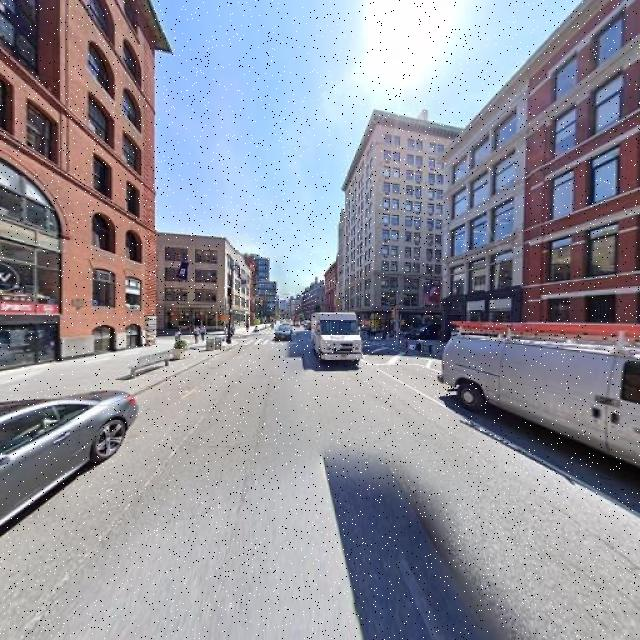Building: (445, 1, 640, 374), (1, 1, 153, 377), (344, 110, 444, 334), (163, 234, 257, 333)
